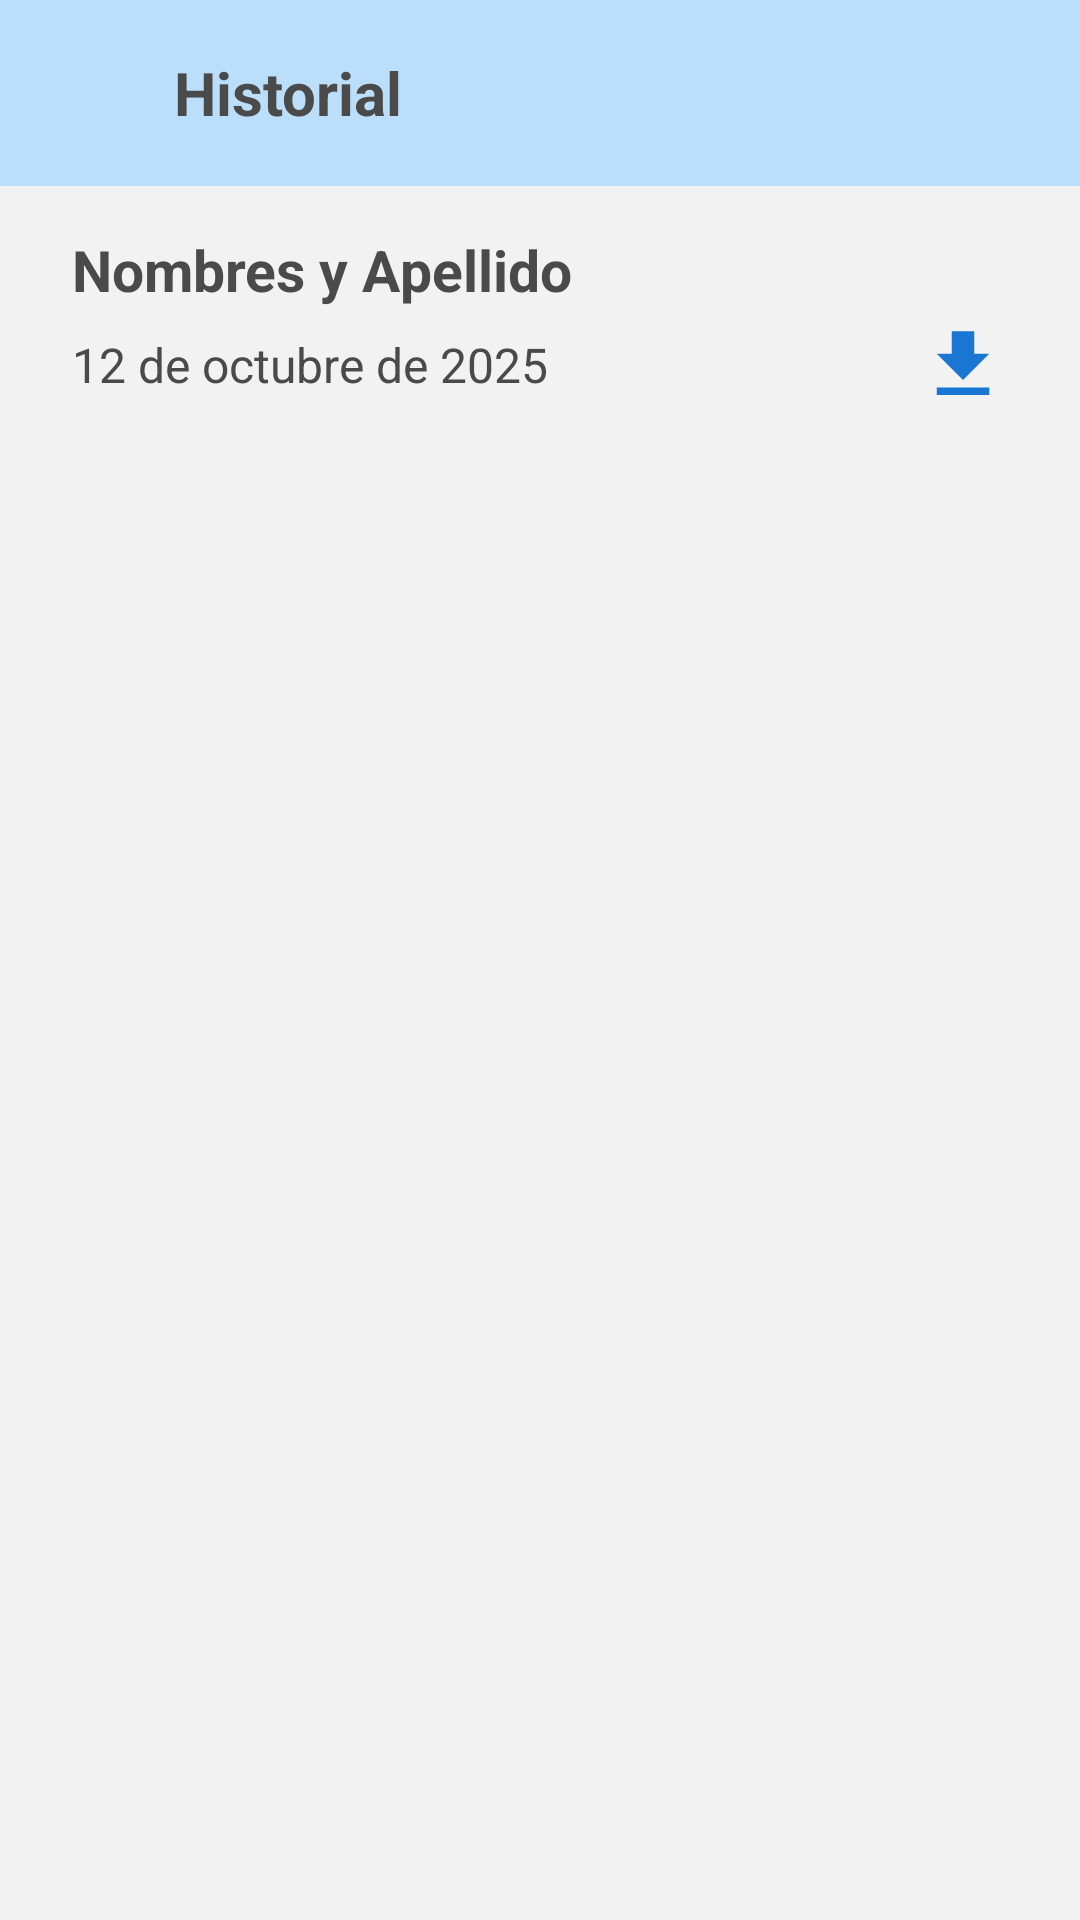

Screen size 1080w x 1920h. Icon name, then its box in pixels as rect(x1, y1, x2, y2):
Descargar historial: rect(936, 331, 990, 395)
